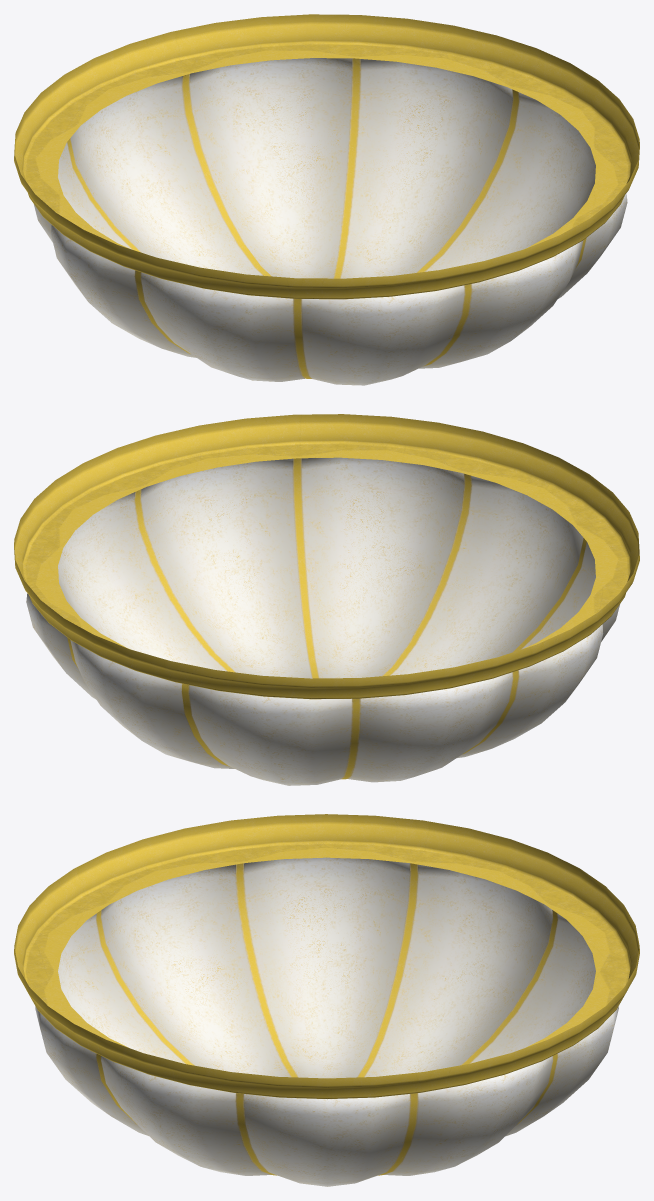
Rendered from LightCeilingRetro01.FBX.
The picture shows the model from 3 angles, top to bottom: view 1: azimuth 30°, elevation 25°; view 2: azimuth 150°, elevation 25°; view 3: azimuth 270°, elevation 25°; orthographic projection.
Parts seen in each view (by area): view 1: LightCeilingRetro01; view 2: LightCeilingRetro01; view 3: LightCeilingRetro01.
Boxes of the visible parts, <box> form: LightCeilingRetro01: <box>14,14,639,385</box>; LightCeilingRetro01: <box>14,414,639,785</box>; LightCeilingRetro01: <box>14,814,639,1186</box>.
Size of the model in its own units: 1082 by 365 by 1081.
